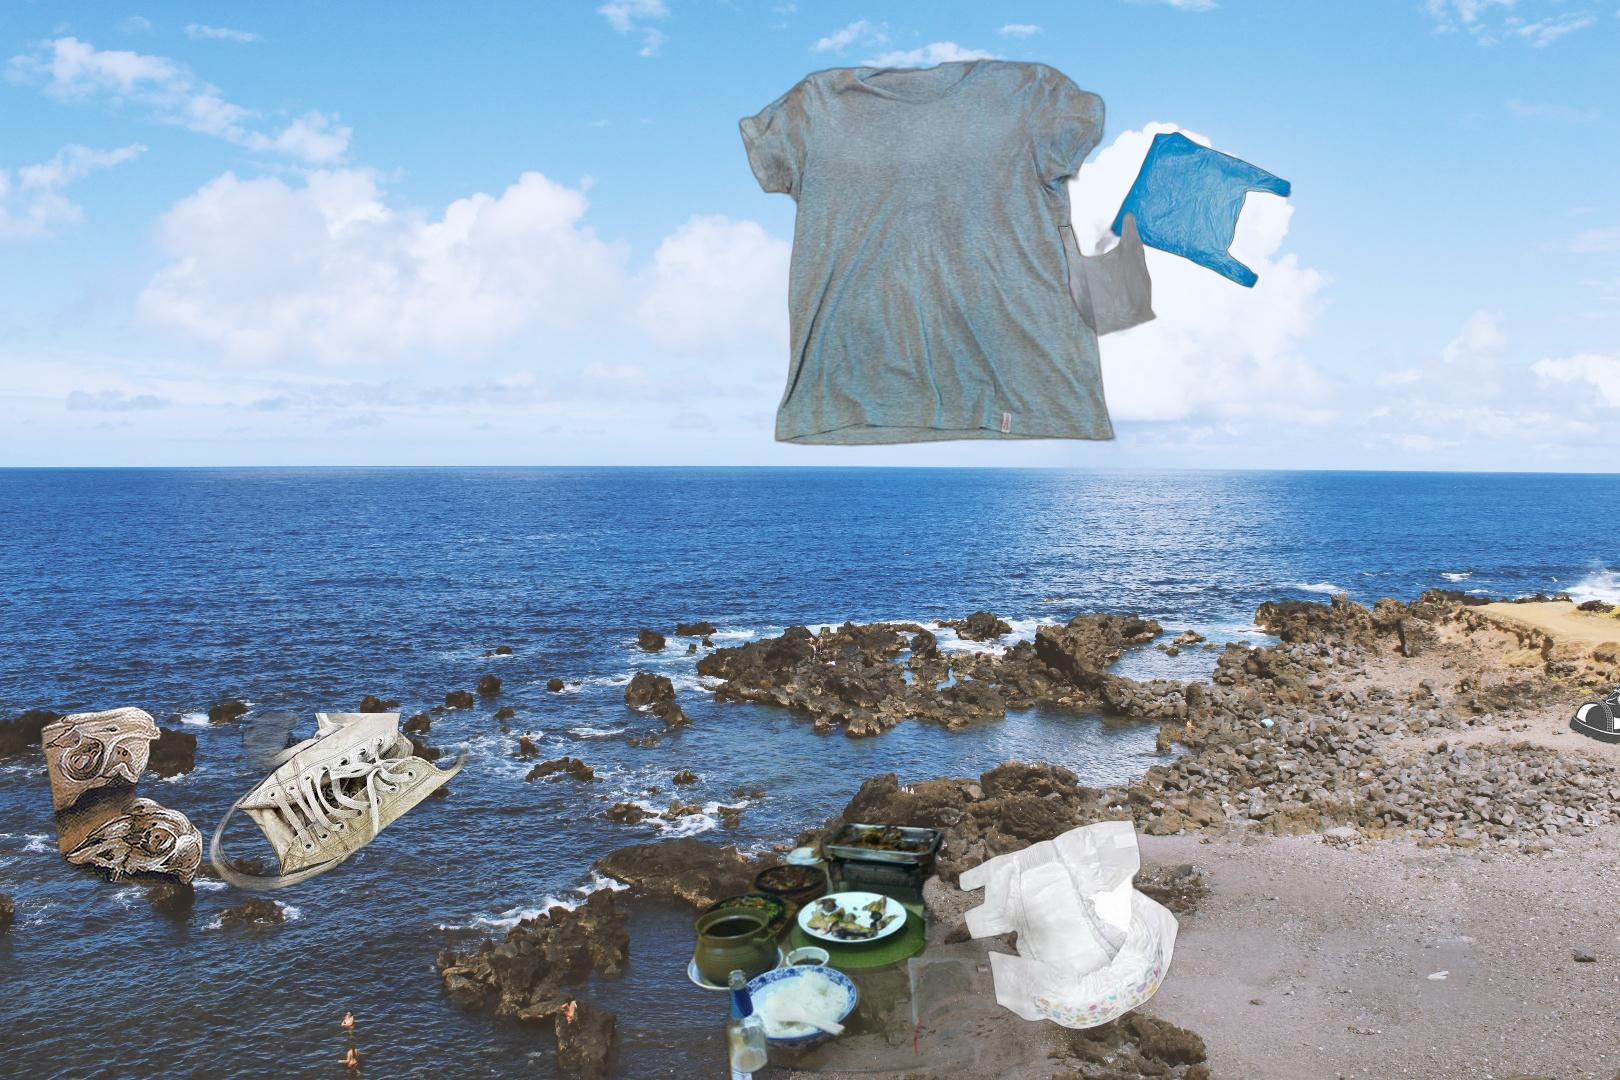biological: (607, 818, 1158, 1080)
clothes: (736, 55, 1121, 457)
plastic-bag: (1057, 129, 1293, 363)
shoes: (207, 714, 482, 896), (1566, 621, 1620, 750), (1402, 1053, 1620, 1080)
trash: (956, 817, 1181, 1035)
trashbox-cardboard: (31, 703, 209, 887)
